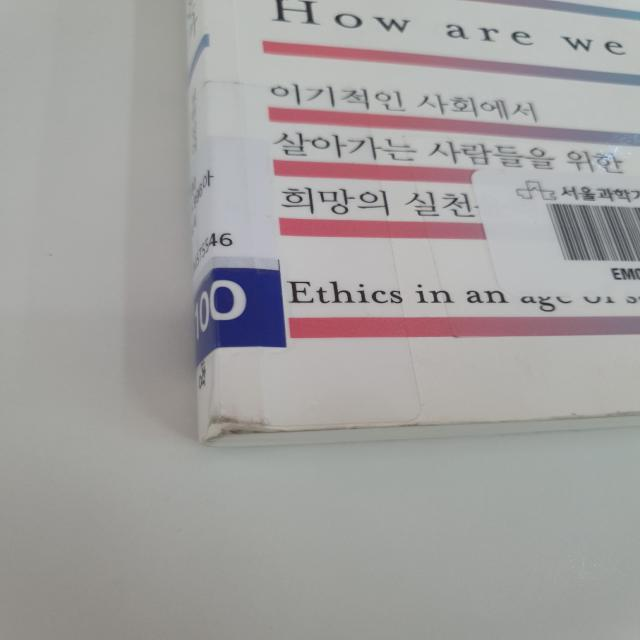Wornout: (197, 414, 440, 446), (497, 402, 639, 428)
